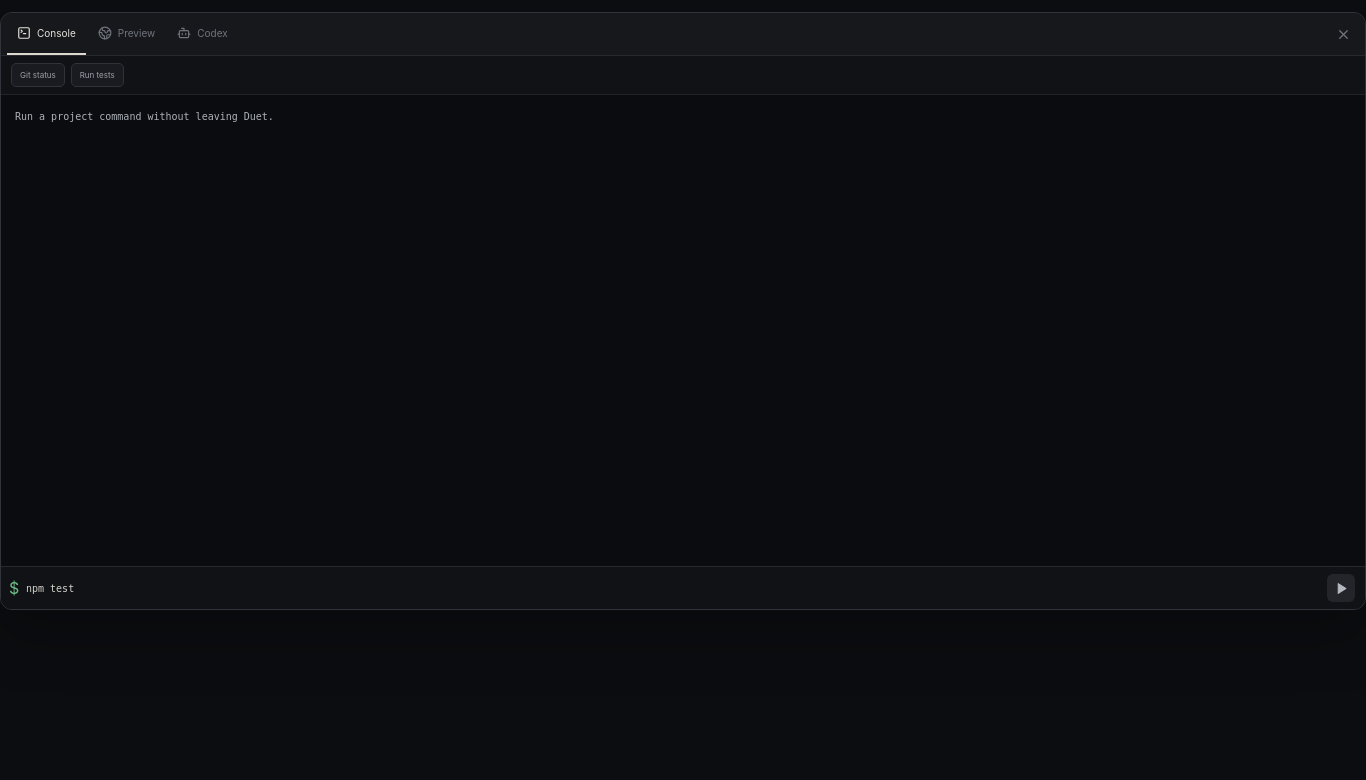
Test case: WorkspaceTools › keeps an active Codex session mounted while visiting another tool
The width and height of the screenshot is (1366, 780).
Click the tab "Codex" at (203, 34), box left=167, top=13, right=238, bottom=55
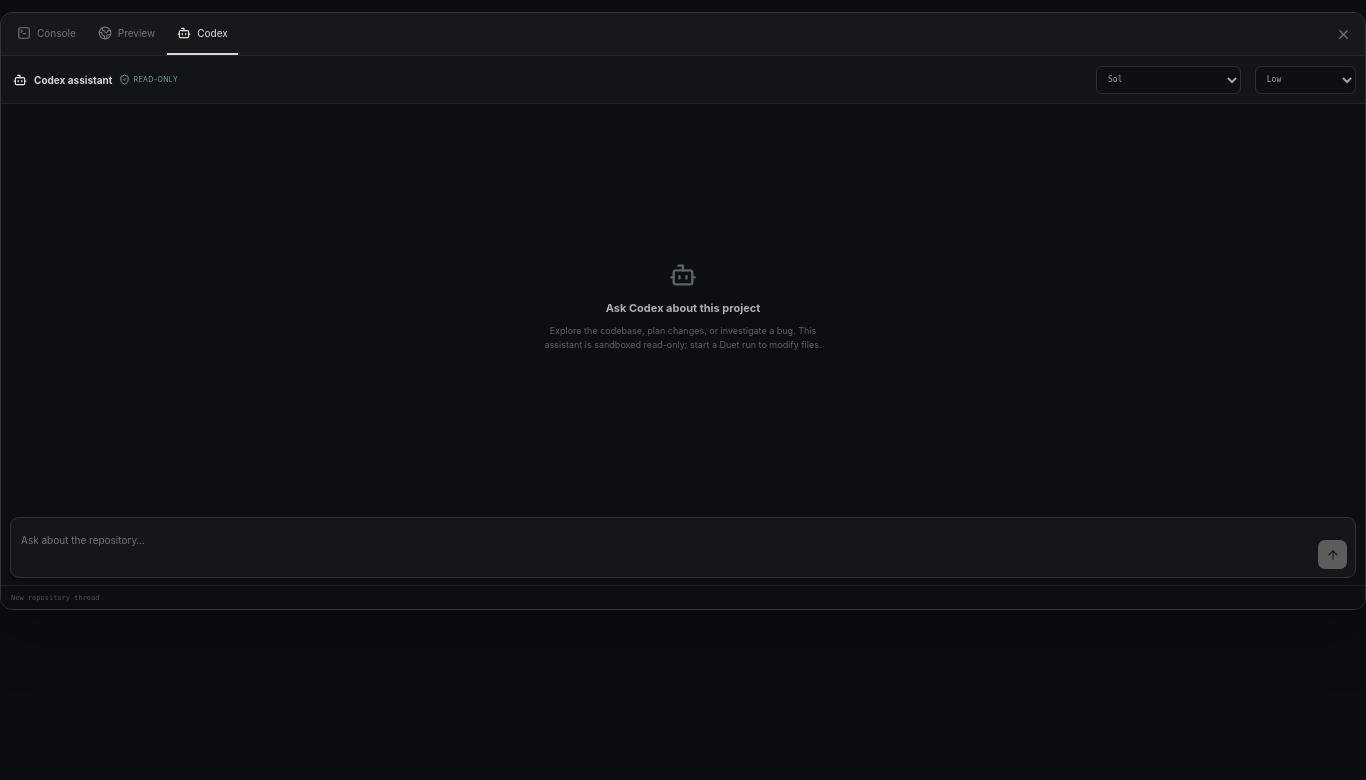
Expected: the dropdown named "Assistant model" shows "Sol", left=1096, top=66, right=1241, bottom=94
Type "Inspect the project" into the text box named "Message Codex" at (665, 550), box left=19, top=531, right=1311, bottom=569
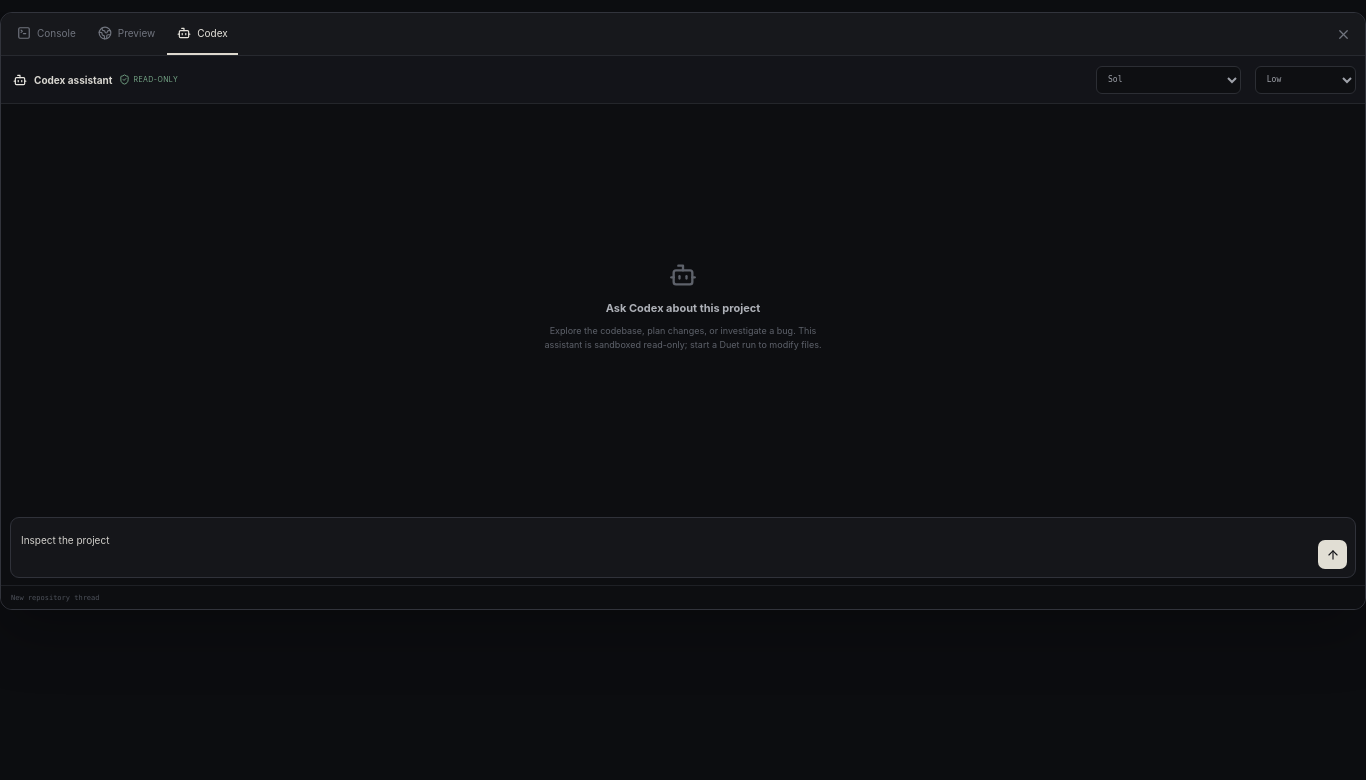
Click the button named "Send to Codex" at (1332, 554), box left=1318, top=540, right=1347, bottom=569
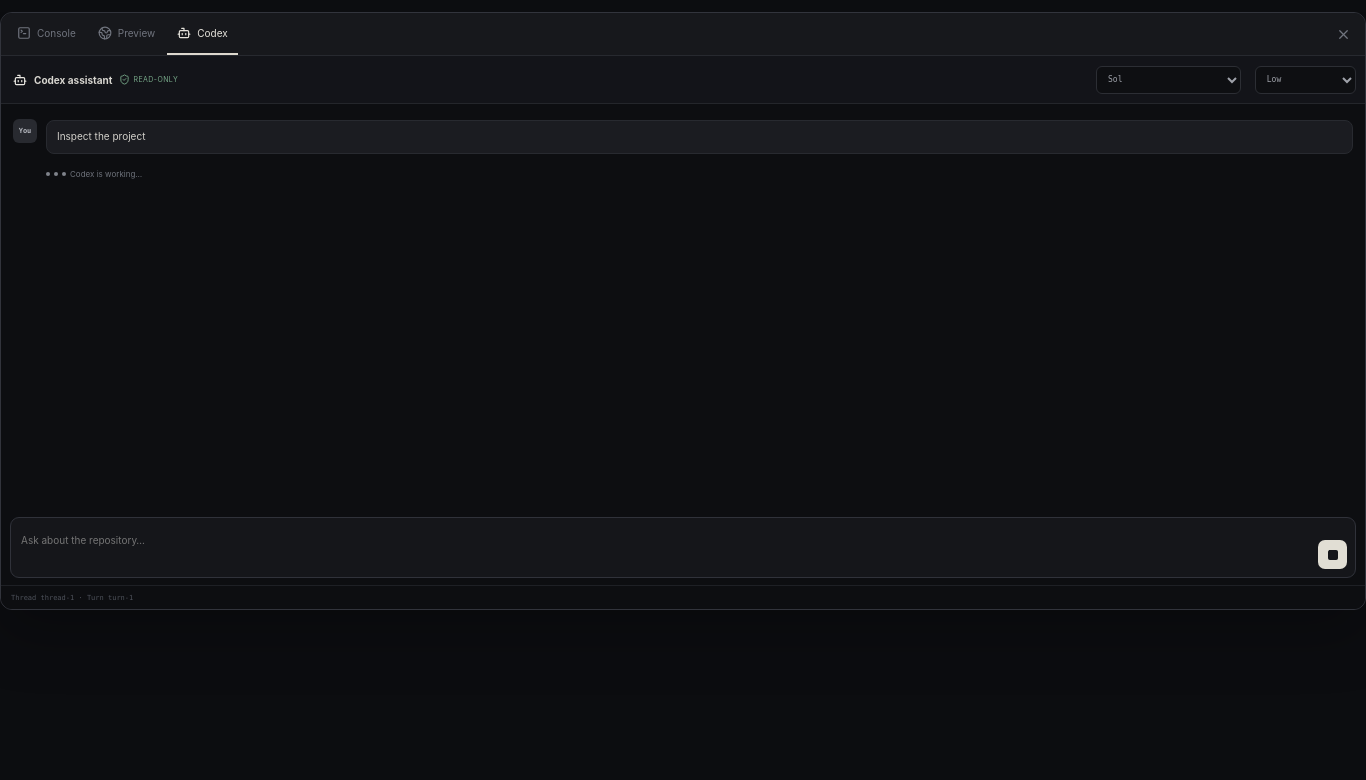
Click the tab "Console" at (46, 34), box left=7, top=13, right=86, bottom=55
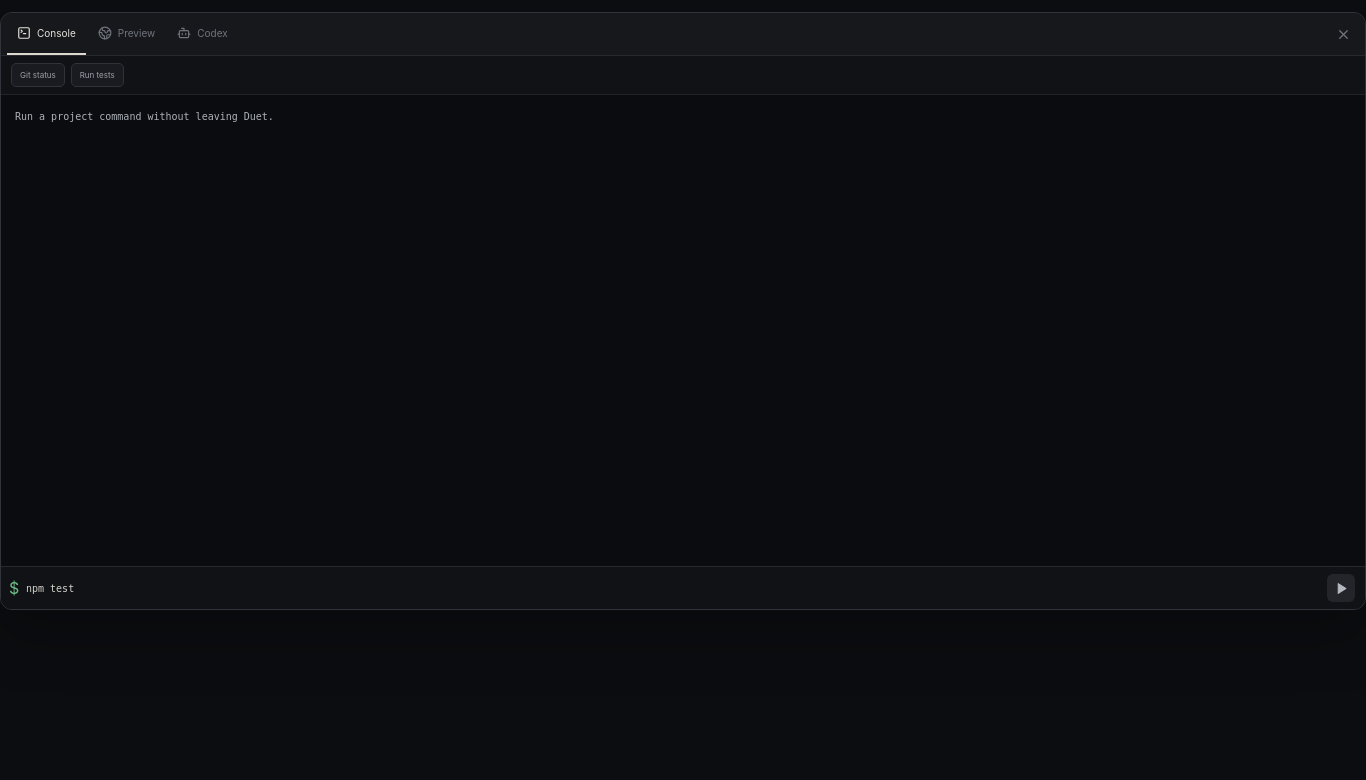
Click the tab "Codex" at (203, 34), box left=167, top=13, right=238, bottom=55
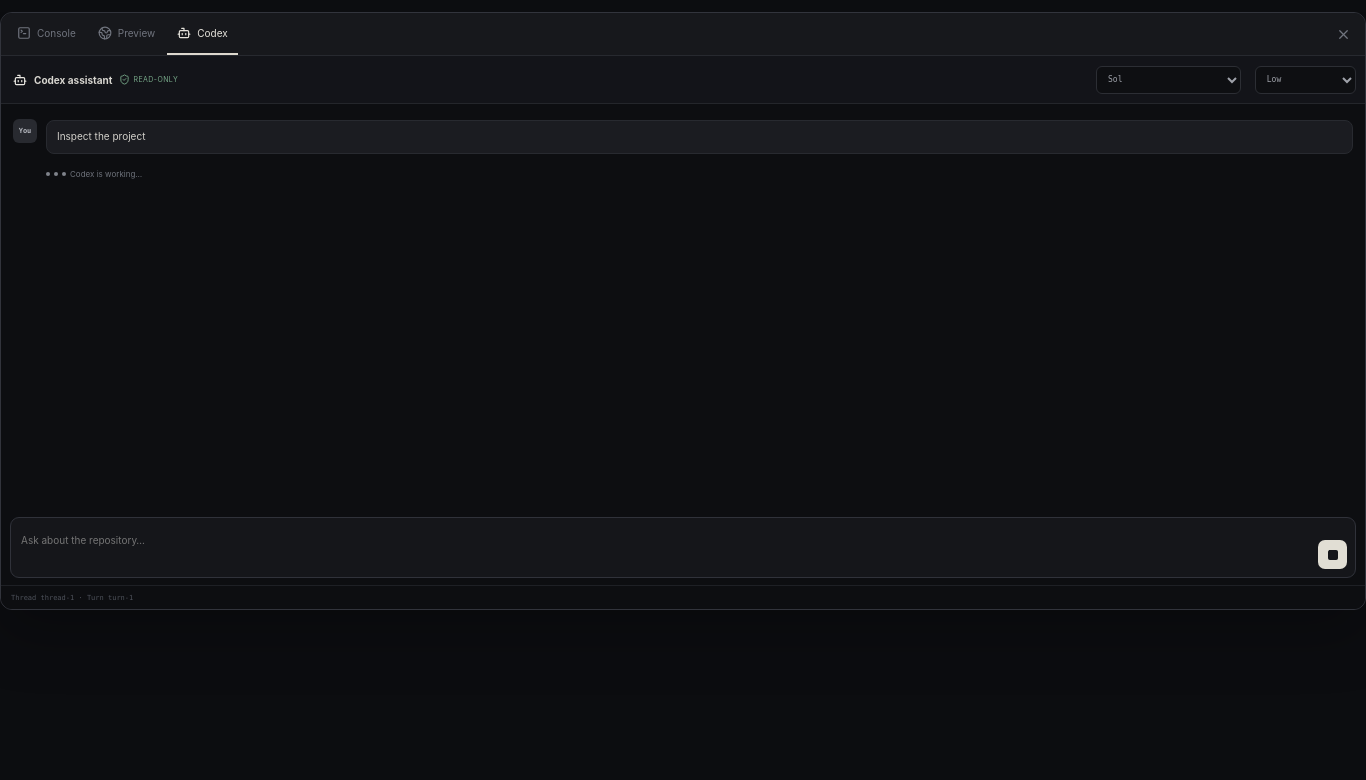
Expected: the text "Inspect the project" is shown, left=46, top=120, right=1353, bottom=154
